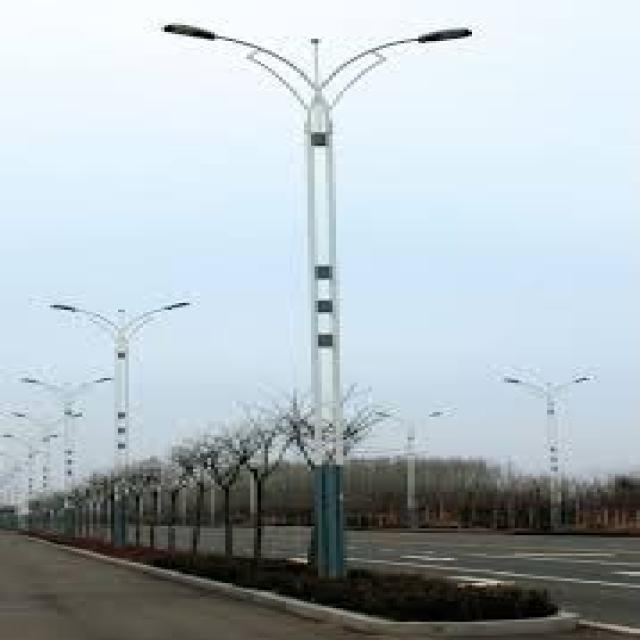Street Light: (161, 18, 472, 581), (50, 296, 190, 544), (18, 374, 111, 530), (497, 374, 586, 528), (372, 410, 450, 526)
